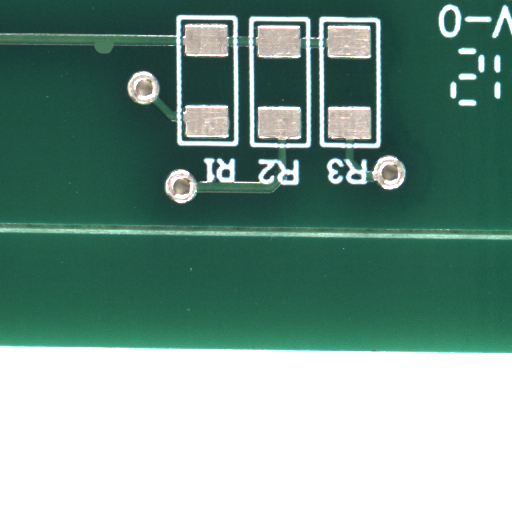Spur: (103, 48, 126, 60)
